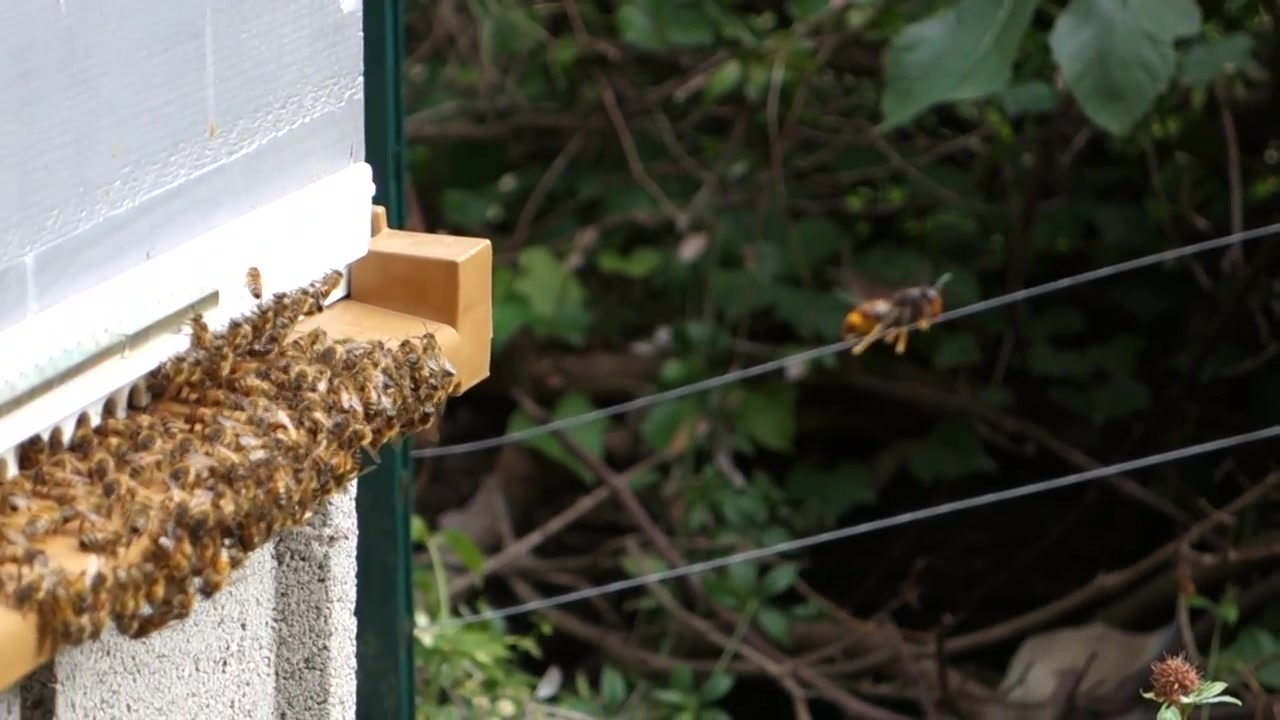bee: (141, 364, 346, 455), (44, 420, 161, 545), (157, 452, 298, 541), (103, 550, 200, 637), (398, 371, 449, 429), (33, 588, 99, 632), (351, 357, 392, 425), (289, 317, 332, 365), (298, 451, 338, 499), (206, 548, 240, 597), (308, 263, 349, 303), (184, 308, 216, 358), (418, 325, 445, 372), (238, 261, 267, 302)
hornet: (838, 278, 961, 354)
